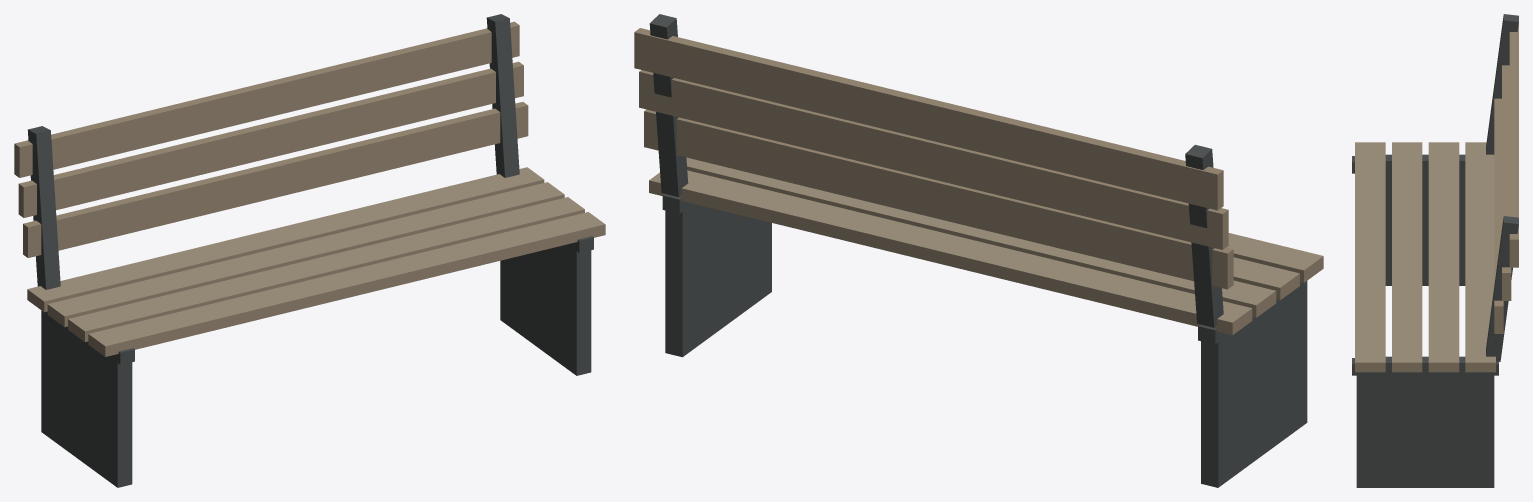
File: town_bench_a.glb
3 renders of one model, left to right at view 1: azimuth 30°, elevation 25°; view 2: azimuth 150°, elevation 25°; view 3: azimuth 270°, elevation 25°, orthographic. The views are drawn at different scales.
Visible parts, largest first — view 1: body; view 2: body; view 3: body.
Part boxes in pixels (<box>): body: <box>14,14,605,487</box>; body: <box>634,14,1323,487</box>; body: <box>1352,14,1518,487</box>.
Size of what is drawn, in the model's own units: 1.7 by 0.9562 by 0.545.
